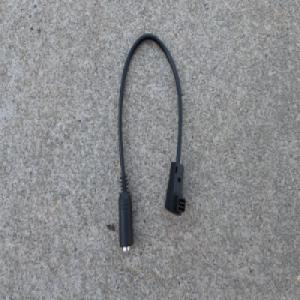Wire: (115, 31, 187, 255)
